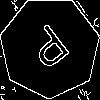P: (24, 22, 78, 79)
